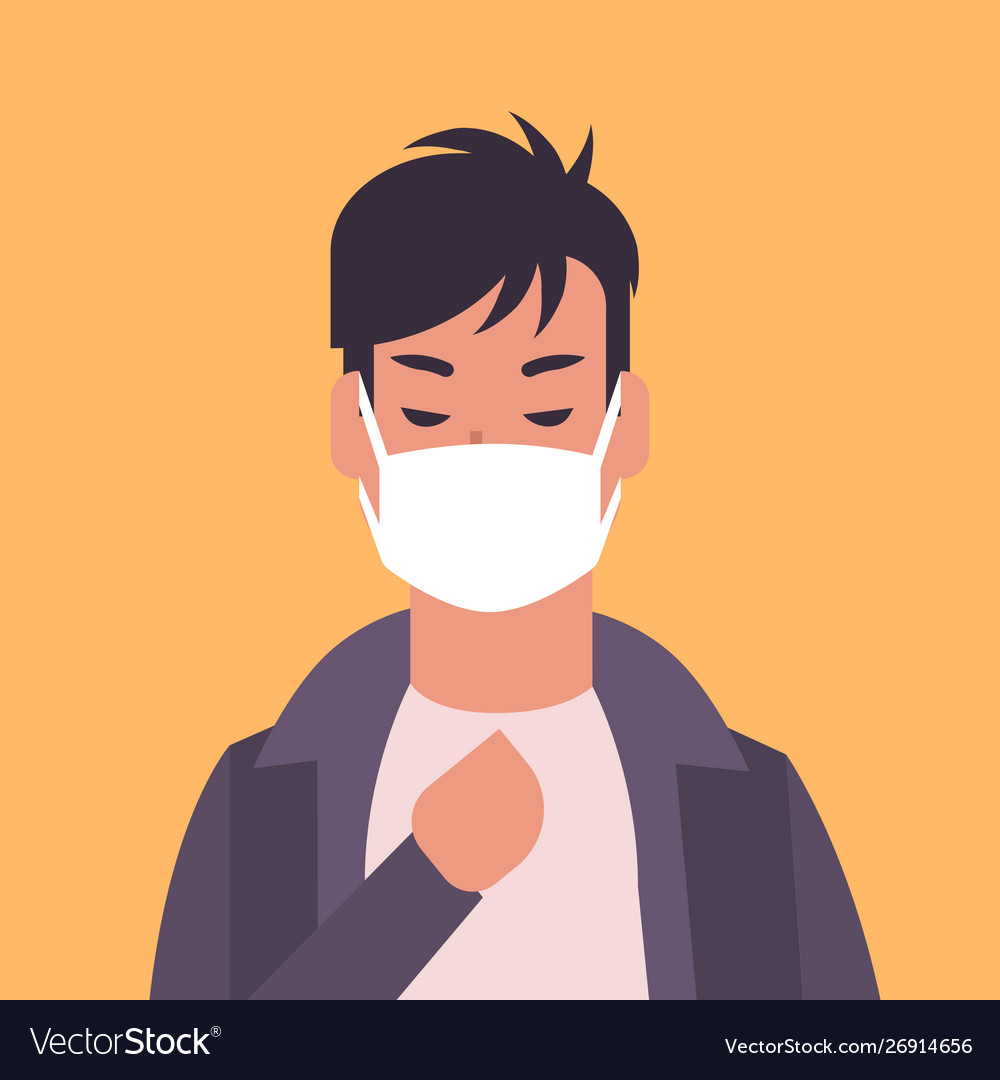mask: (348, 426, 631, 623)
